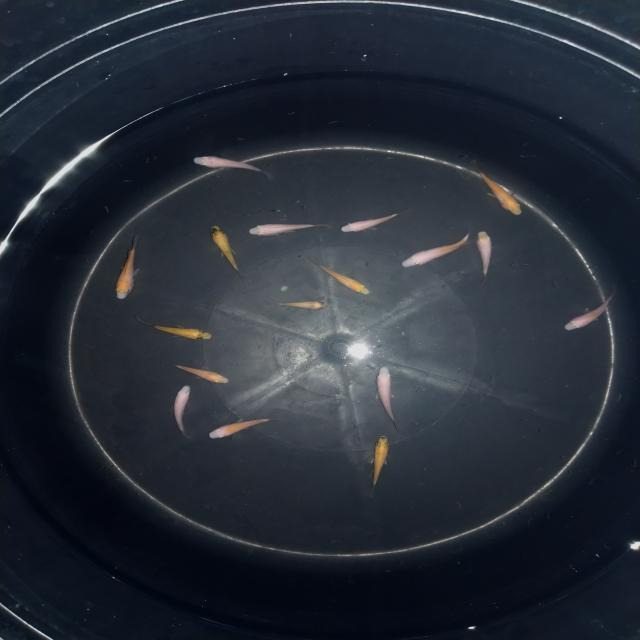nila: (471, 163, 526, 220), (396, 232, 474, 270), (562, 284, 618, 333), (308, 257, 372, 298), (188, 154, 276, 180), (136, 316, 217, 344), (372, 364, 404, 434), (208, 223, 245, 283), (112, 234, 140, 302), (338, 208, 412, 233), (207, 416, 284, 440), (246, 218, 331, 238), (170, 362, 232, 387), (368, 434, 390, 498), (472, 226, 496, 283), (170, 379, 193, 437), (272, 299, 330, 312)
